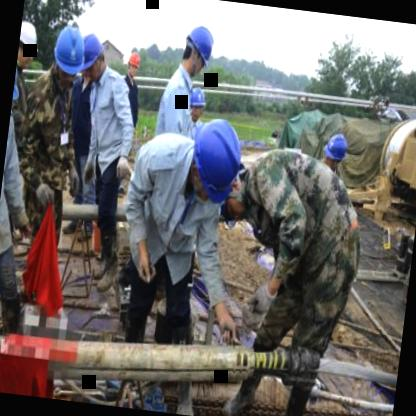helmet: (184, 112, 250, 210), (50, 18, 94, 86), (178, 18, 218, 80), (74, 29, 107, 85), (16, 15, 42, 68), (320, 130, 350, 172), (182, 86, 209, 128), (124, 44, 143, 81)
